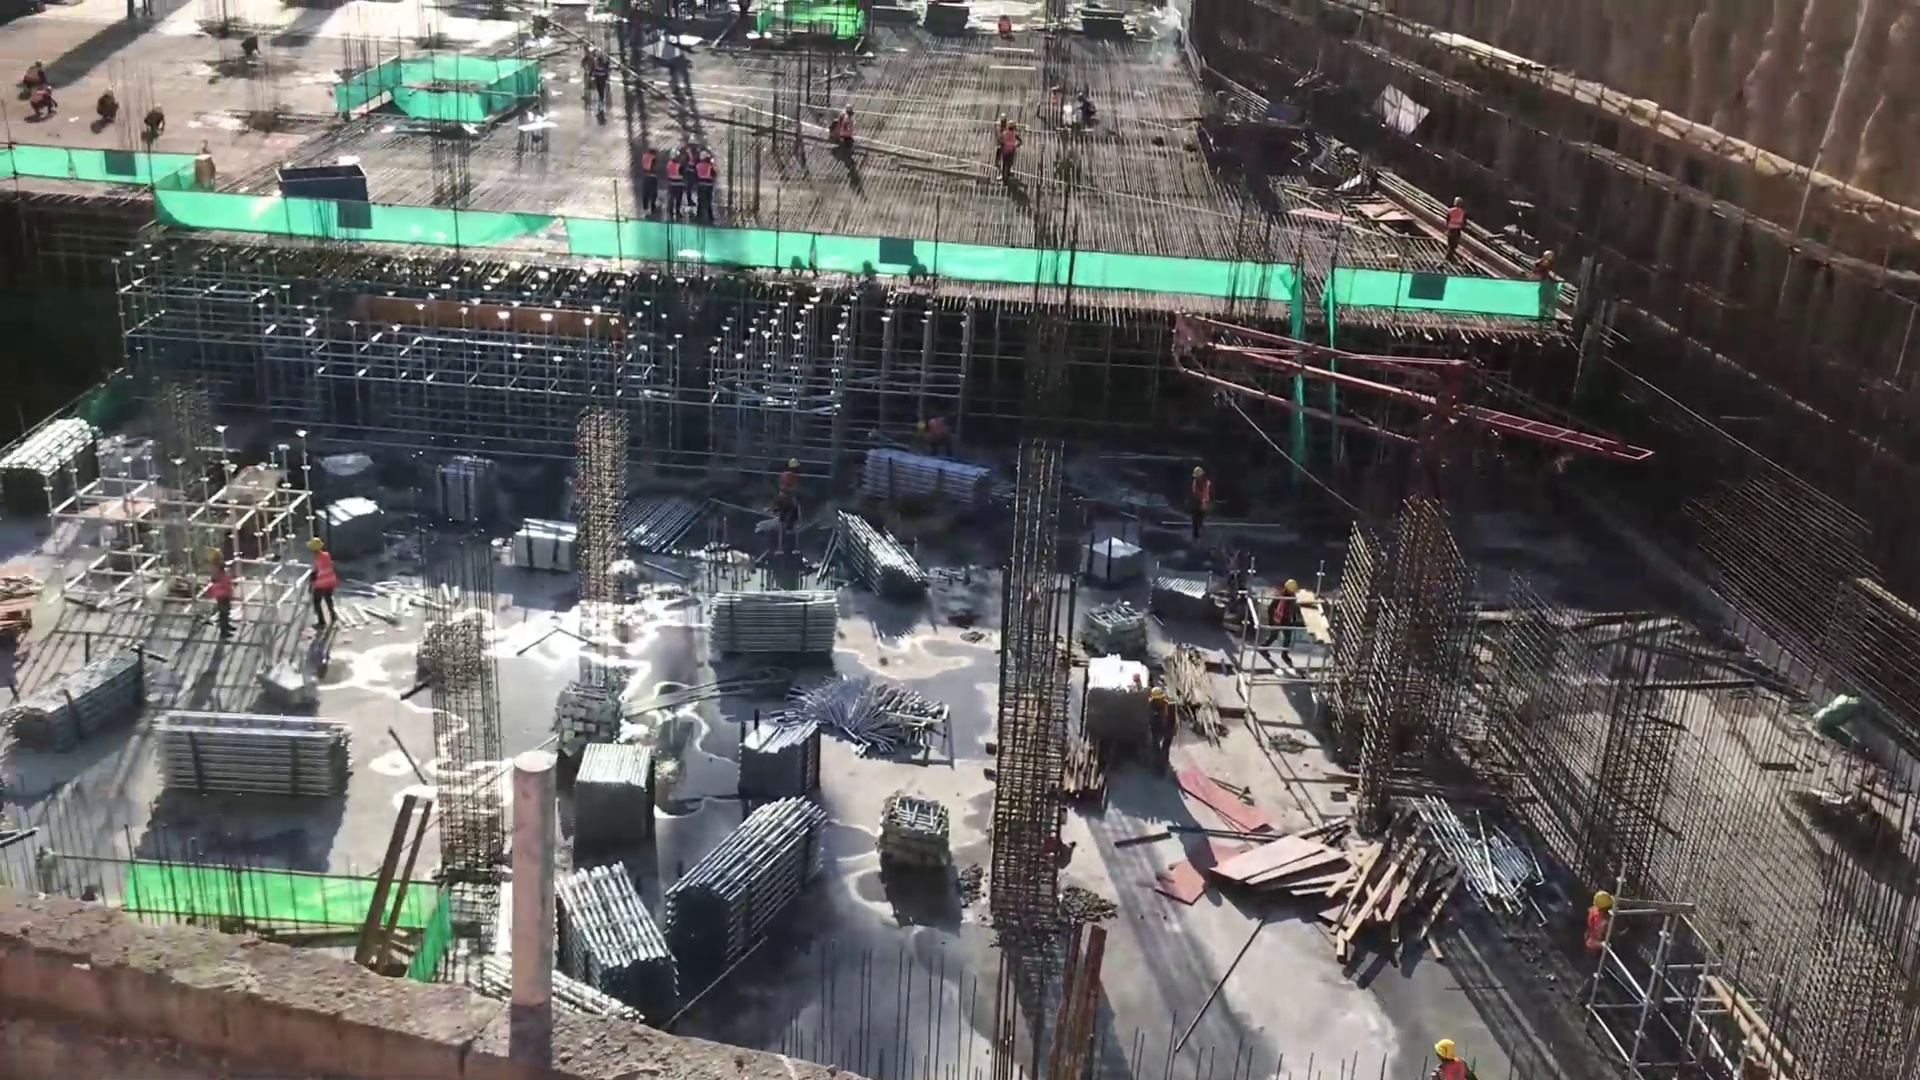helmet: (1430, 1037, 1457, 1065), (1590, 889, 1616, 916), (1282, 575, 1302, 601), (306, 533, 327, 555), (207, 548, 226, 573), (665, 143, 684, 165), (839, 100, 861, 119), (1150, 687, 1171, 706), (646, 136, 661, 158), (787, 456, 806, 473), (1449, 190, 1465, 209), (1191, 465, 1207, 482), (700, 148, 716, 165), (917, 416, 927, 439), (1538, 249, 1556, 262), (995, 105, 1011, 120), (1006, 116, 1018, 131)
hopper: (267, 155, 376, 202)
person: (1577, 889, 1621, 1010), (1262, 573, 1309, 671), (301, 532, 345, 634), (204, 545, 243, 637), (1435, 187, 1471, 272), (770, 454, 809, 533), (1150, 687, 1183, 776), (1415, 1033, 1475, 1080), (657, 140, 689, 223), (1185, 464, 1218, 540), (911, 412, 959, 464), (827, 97, 866, 160), (693, 145, 720, 227), (638, 132, 662, 215), (15, 54, 54, 97), (90, 84, 124, 132), (998, 117, 1022, 176), (138, 101, 171, 143), (1528, 247, 1561, 287), (27, 84, 60, 117), (990, 106, 1013, 147)
scaffold: (665, 791, 849, 975), (551, 853, 688, 1030), (151, 707, 360, 803), (1, 638, 151, 762), (825, 499, 938, 613), (1, 410, 110, 519), (707, 580, 843, 662), (567, 731, 660, 849), (858, 444, 997, 516), (729, 714, 832, 806), (1076, 652, 1151, 752), (313, 491, 393, 563), (436, 449, 507, 532), (513, 516, 582, 575)
vest: (1579, 909, 1611, 960), (307, 550, 340, 595), (773, 475, 802, 511), (1184, 482, 1216, 516), (996, 128, 1023, 162), (1432, 1058, 1474, 1080), (662, 160, 687, 197), (209, 567, 234, 603), (1155, 704, 1180, 738), (1272, 595, 1298, 628), (834, 114, 860, 143), (695, 164, 717, 195), (930, 416, 949, 445), (640, 155, 656, 186), (1443, 210, 1462, 233)
